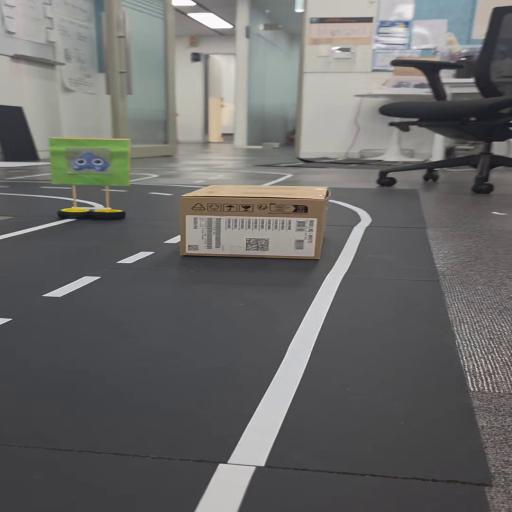Box: (185, 180, 336, 262)
Sign_B: (48, 132, 142, 223)
